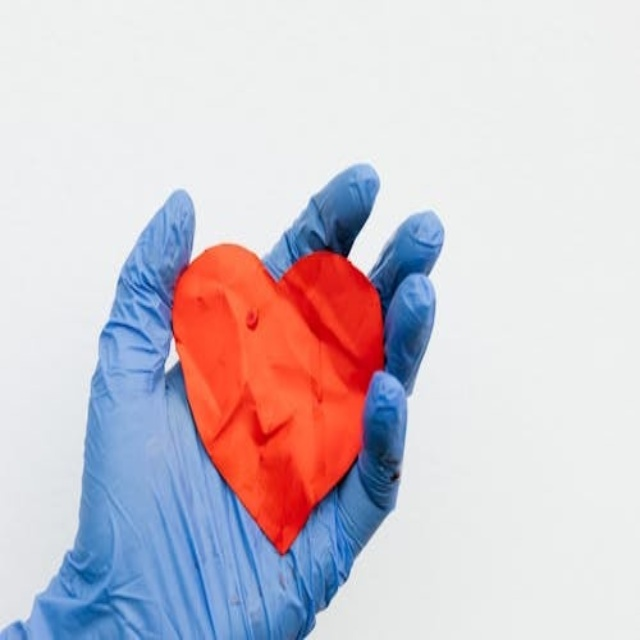Guantes: (5, 154, 457, 628)
